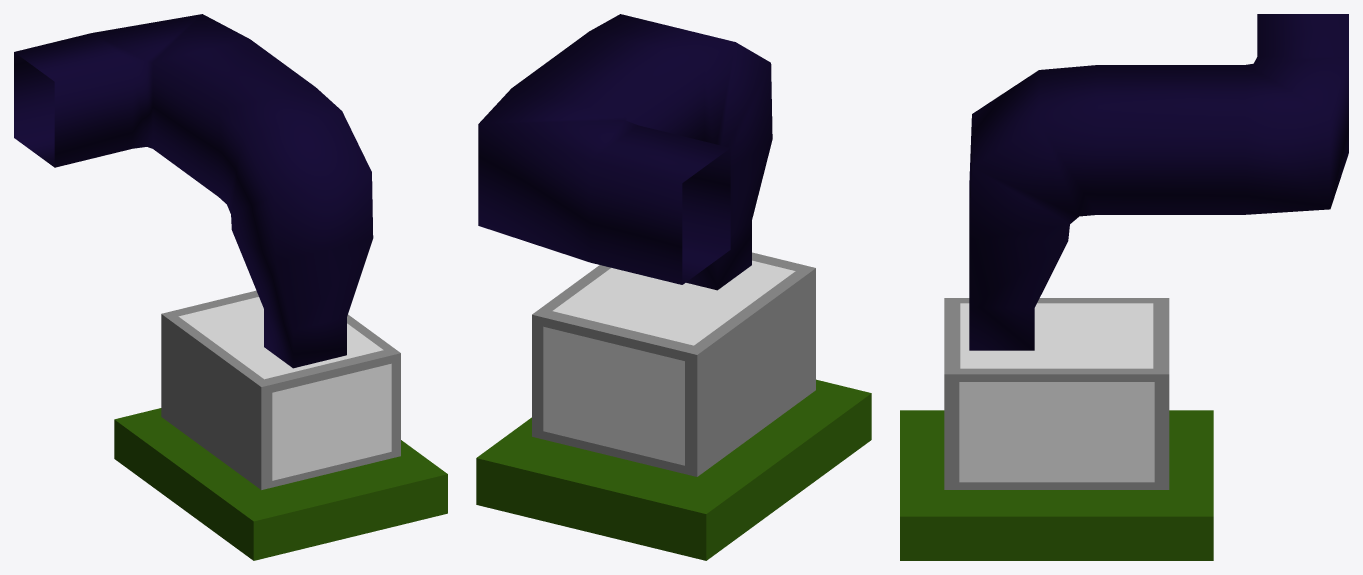
File: airbox.fbx
The picture shows the model from 3 angles, left to right: view 1: azimuth 30°, elevation 25°; view 2: azimuth 150°, elevation 25°; view 3: azimuth 270°, elevation 25°; orthographic projection. The views are drawn at different scales.
Parts seen in each view (by area): view 1: airbox; view 2: airbox; view 3: airbox.
Boxes of the visible parts, x1,y1,x2,y2 form: airbox: (14, 14, 447, 560); airbox: (476, 14, 871, 560); airbox: (900, 14, 1348, 560).
Bounding box in the file's own units: 21.93 × 33.34 × 32.4.
